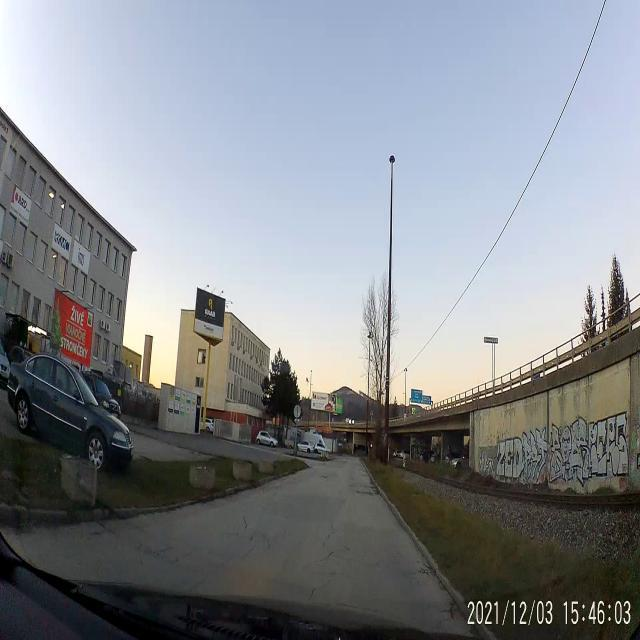Pothole: (353, 484, 378, 498), (318, 472, 329, 482)
